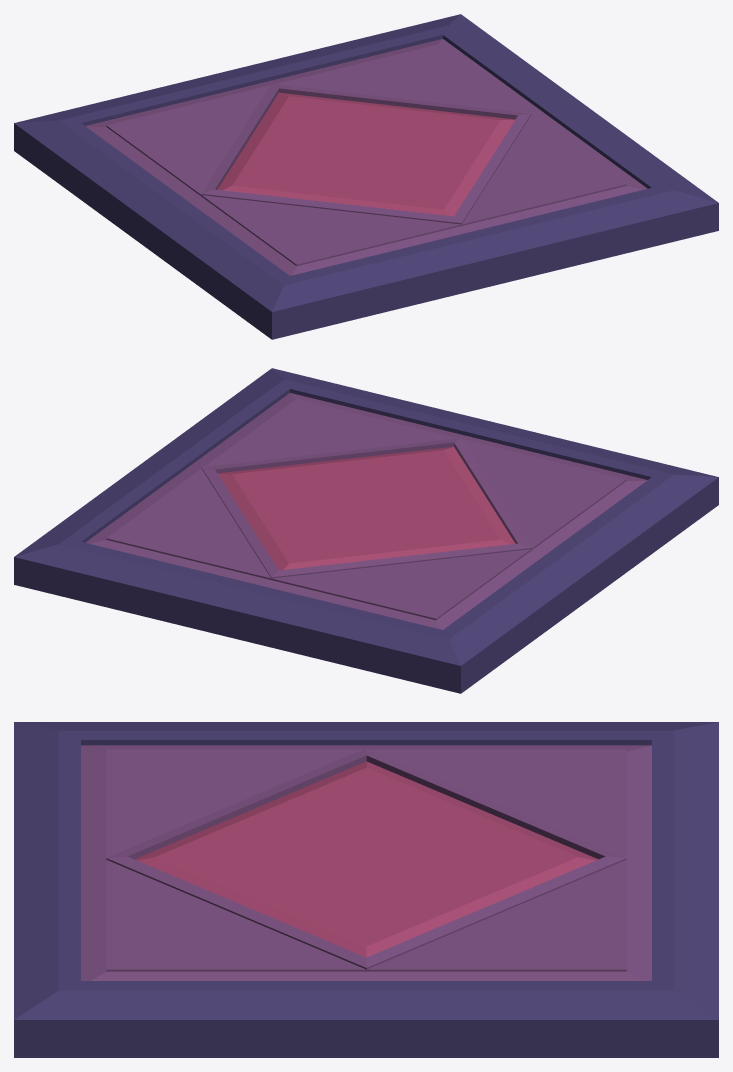
The model's file is FallingPlatform.fbx.
3 views of the same model, one above another, from view 1: azimuth 30°, elevation 25°; view 2: azimuth 150°, elevation 25°; view 3: azimuth 270°, elevation 25° (orthographic). The views are drawn at different scales.
Parts seen in each view (by area): view 1: pCube38; view 2: pCube38; view 3: pCube38.
Part boxes in pixels (<box>): pCube38: <box>14,14,718,339</box>; pCube38: <box>14,368,718,693</box>; pCube38: <box>14,722,718,1057</box>.
Bounding box in the file's own units: 1 × 0.0985 × 1.
